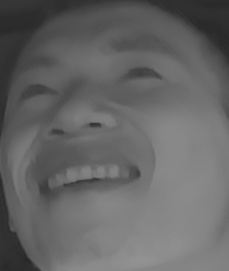eye: (119, 58, 164, 92), (16, 76, 63, 104)
mouth: (28, 153, 147, 206)
